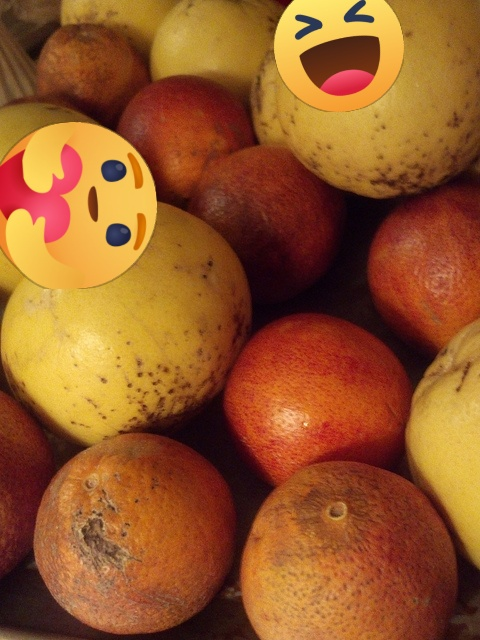care: (0, 122, 157, 289)
haha: (274, 0, 404, 112)
